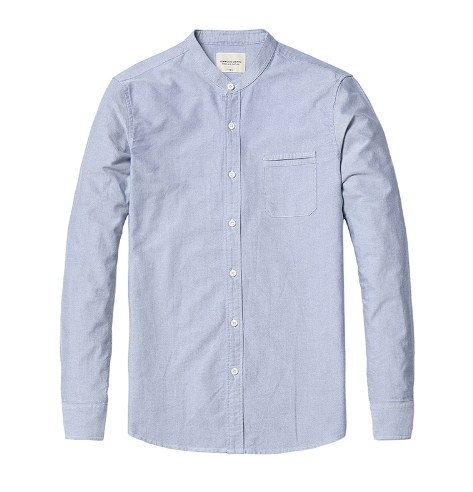Shirt: (56, 21, 441, 450)
